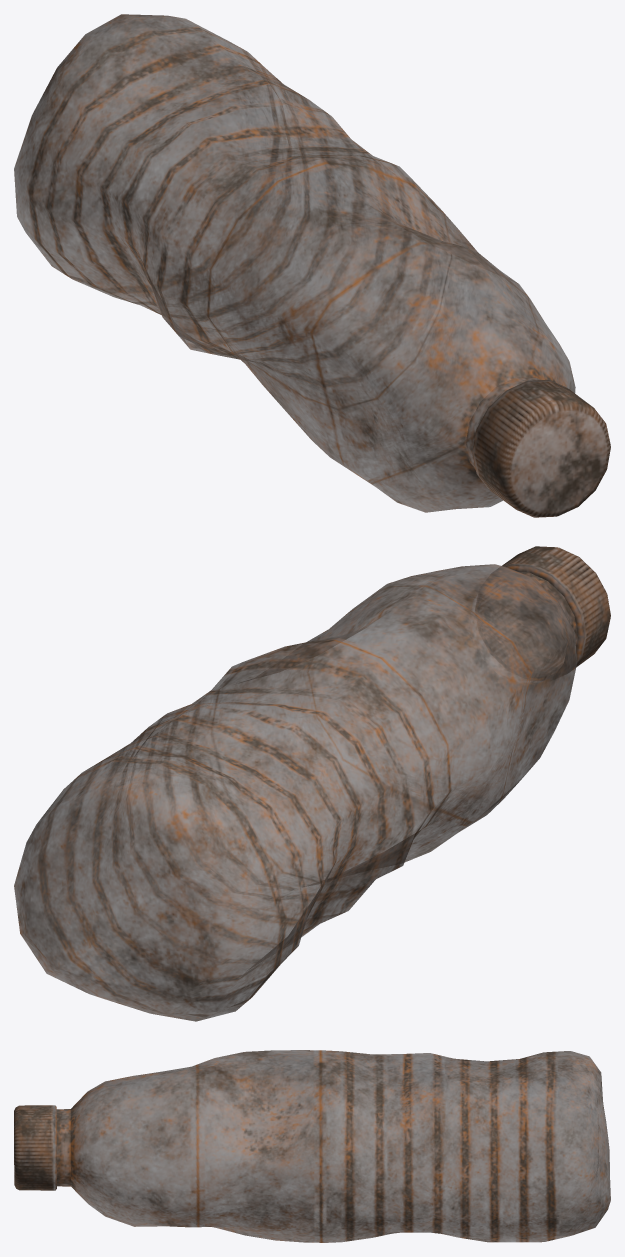
File: bottle.glb
3 renders of one model, top to bottom at view 1: azimuth 30°, elevation 25°; view 2: azimuth 150°, elevation 25°; view 3: azimuth 270°, elevation 25°, orthographic. The views are drawn at different scales.
Parts seen in each view (by area): view 1: Beat_Water; view 2: Beat_Water; view 3: Beat_Water.
Part boxes in pixels (<box>): Beat_Water: <box>14,14,610,517</box>; Beat_Water: <box>14,546,610,1021</box>; Beat_Water: <box>14,1050,610,1242</box>.
Size of the model in its own units: 0.0672 by 0.0669 by 0.2083.
Materials: 1 (1 with a texture image).
